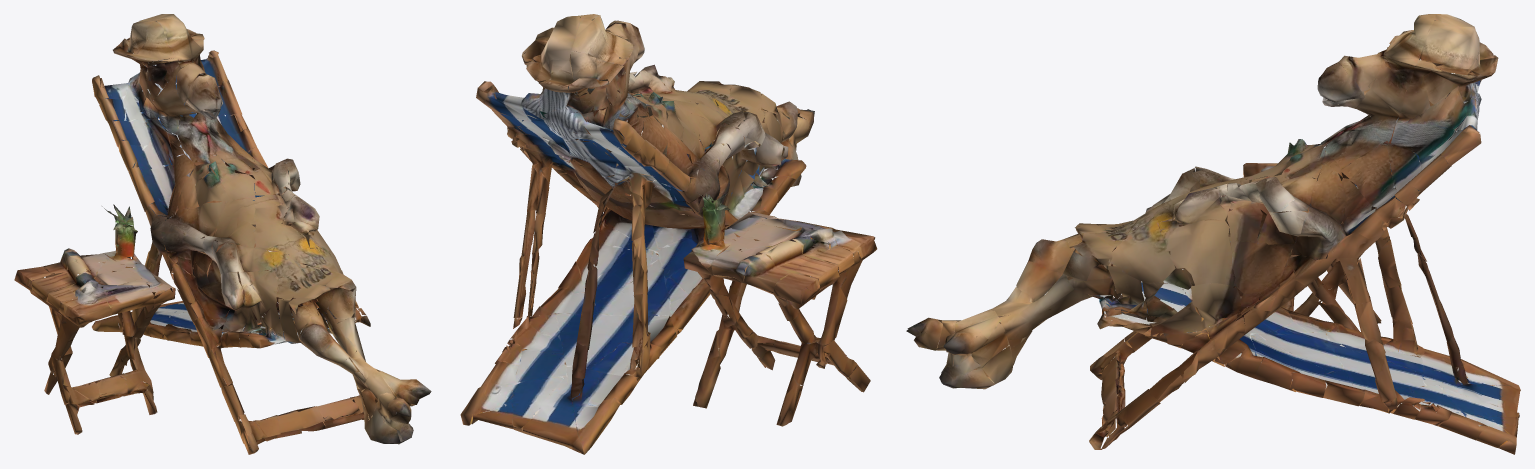
File: camelsitting.glb
3 views of the same model, side by side, from view 1: azimuth 30°, elevation 25°; view 2: azimuth 150°, elevation 25°; view 3: azimuth 270°, elevation 25° (orthographic). The views are drawn at different scales.
Parts seen in each view (by area): view 1: Mesh_0; view 2: Mesh_0; view 3: Mesh_0.
Part boxes in pixels (x1,y1,x2,y2): Mesh_0: (14,14,431,454); Mesh_0: (460,14,877,454); Mesh_0: (906,14,1520,454).
Size of the model in its own units: 1.06 by 1.34 by 1.87.
Materials: 1 (1 with a texture image).
